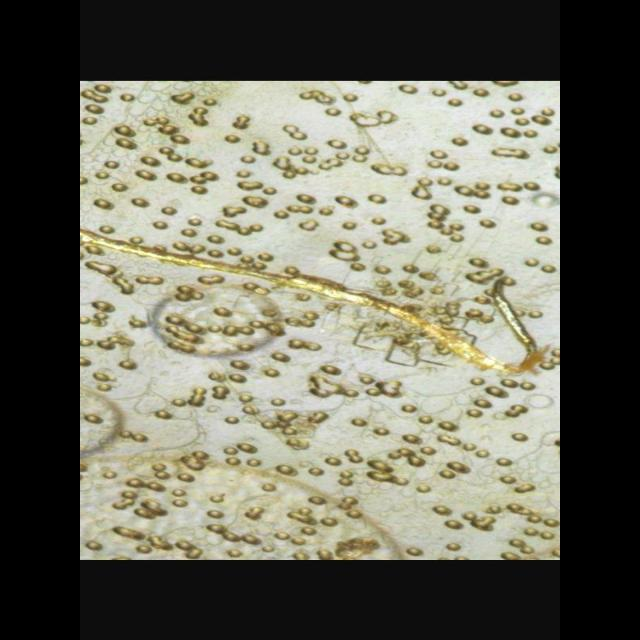Fibre: (80, 81, 560, 559), (80, 216, 554, 374)
